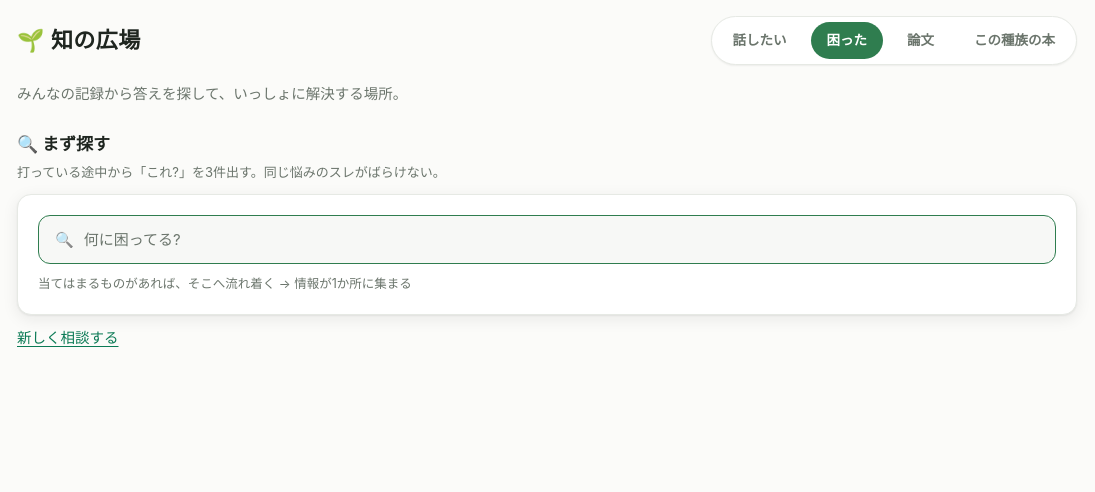
KnowledgeHubNode — T-70 KNW wave1 (mockup verbatim adoption) › 新しく相談する reveals the compose title field instead of navigating away
The width and height of the screenshot is (1095, 492).
Expected: the field with placeholder "相談したいことを入力" is not shown
Step 1. Click the button "新しく相談する" → (68, 338), box [17,326,118,349]
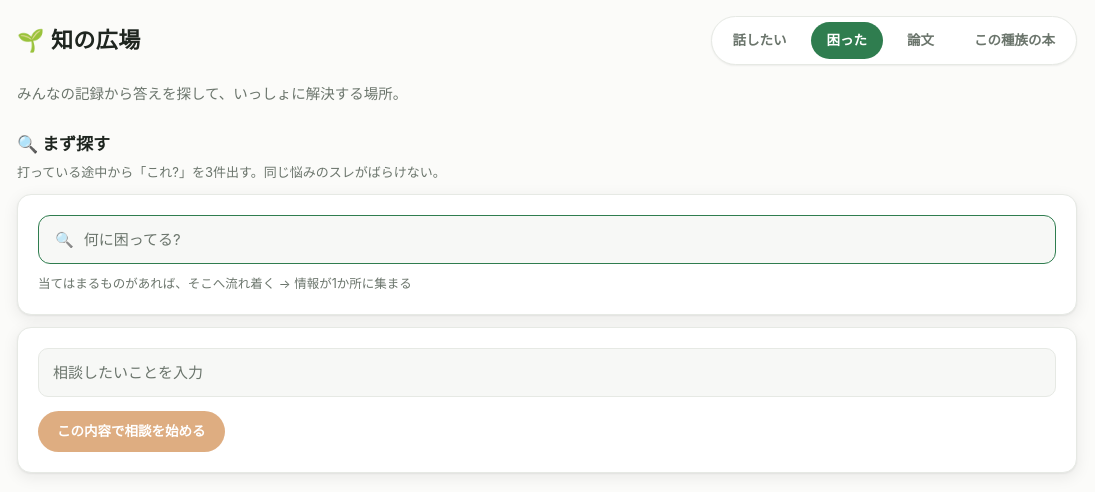
Now the field with placeholder "相談したいことを入力" is shown, box [38,348,1056,397]
